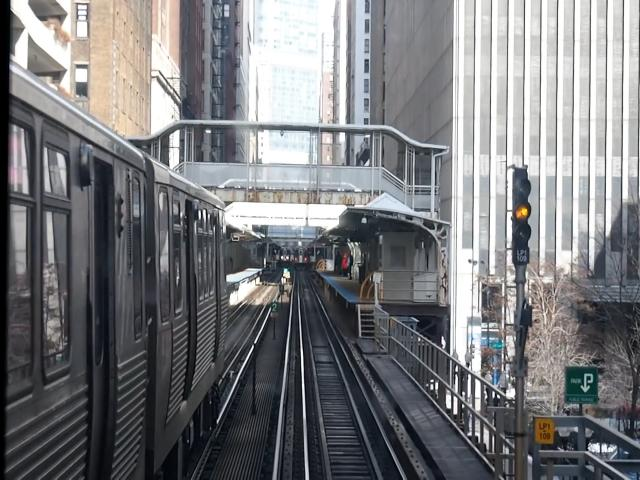signal light: (511, 162, 536, 268)
